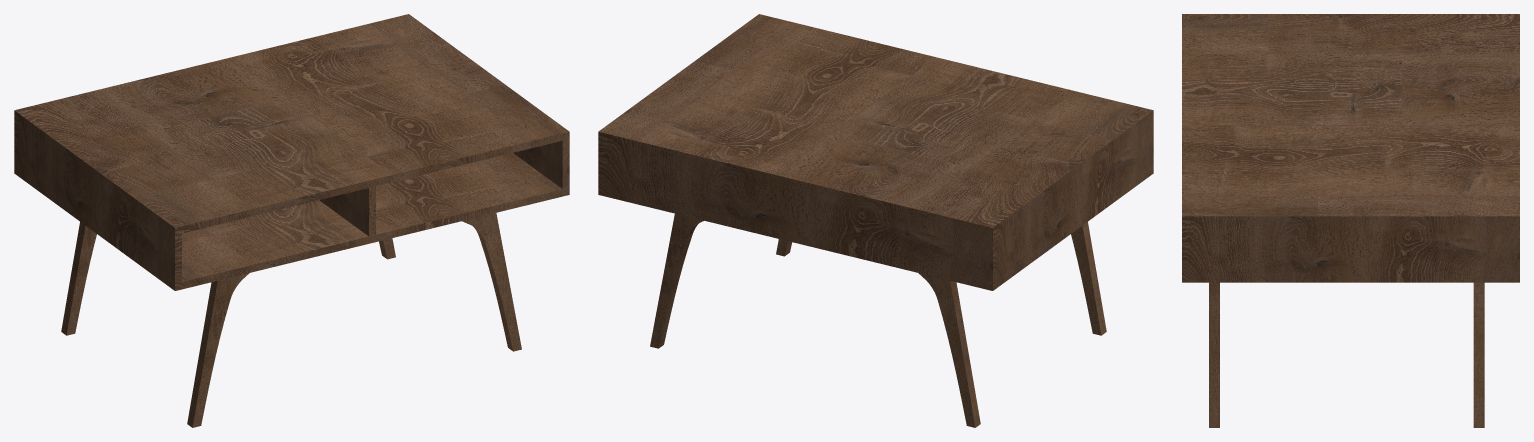
The model's file is table.gltf.
The picture shows the model from 3 angles, left to right: view 1: azimuth 30°, elevation 25°; view 2: azimuth 150°, elevation 25°; view 3: azimuth 270°, elevation 25°; orthographic projection. The views are drawn at different scales.
Visible parts, largest first — view 1: Line004; view 2: Line004; view 3: Line004.
Part boxes in pixels (<box>): Line004: <box>14,14,569,427</box>; Line004: <box>598,14,1153,427</box>; Line004: <box>1182,14,1519,427</box>.
Bounding box in the file's own units: 0.85 × 0.45 × 0.6.
Materials: 1 (1 with a texture image).
